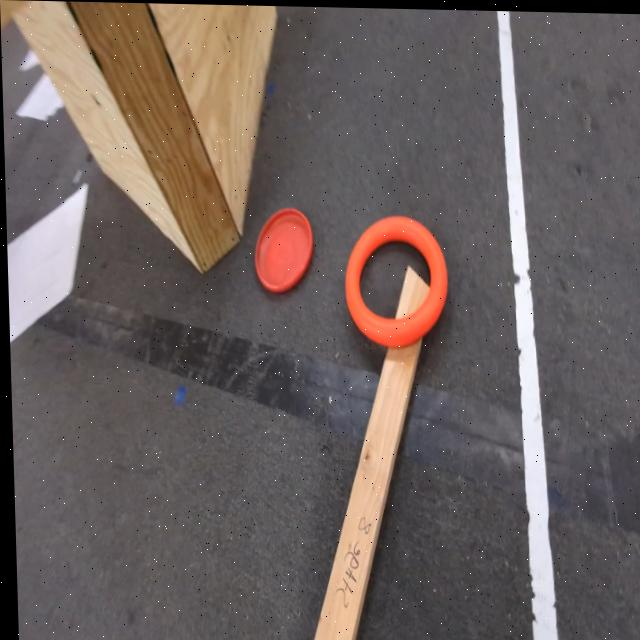note: (345, 218, 449, 350)
